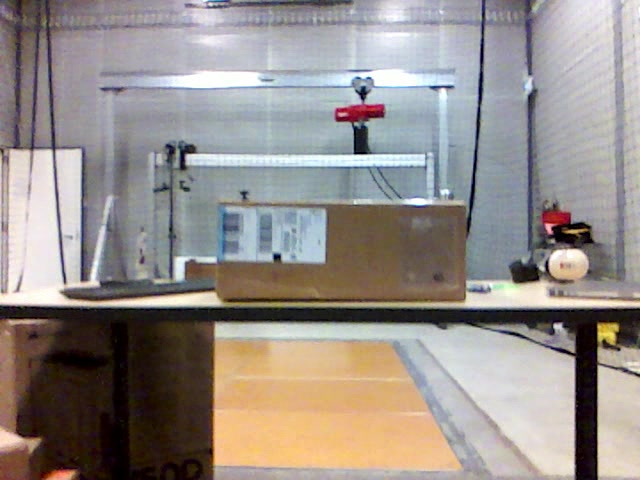box: (219, 200, 467, 300)
